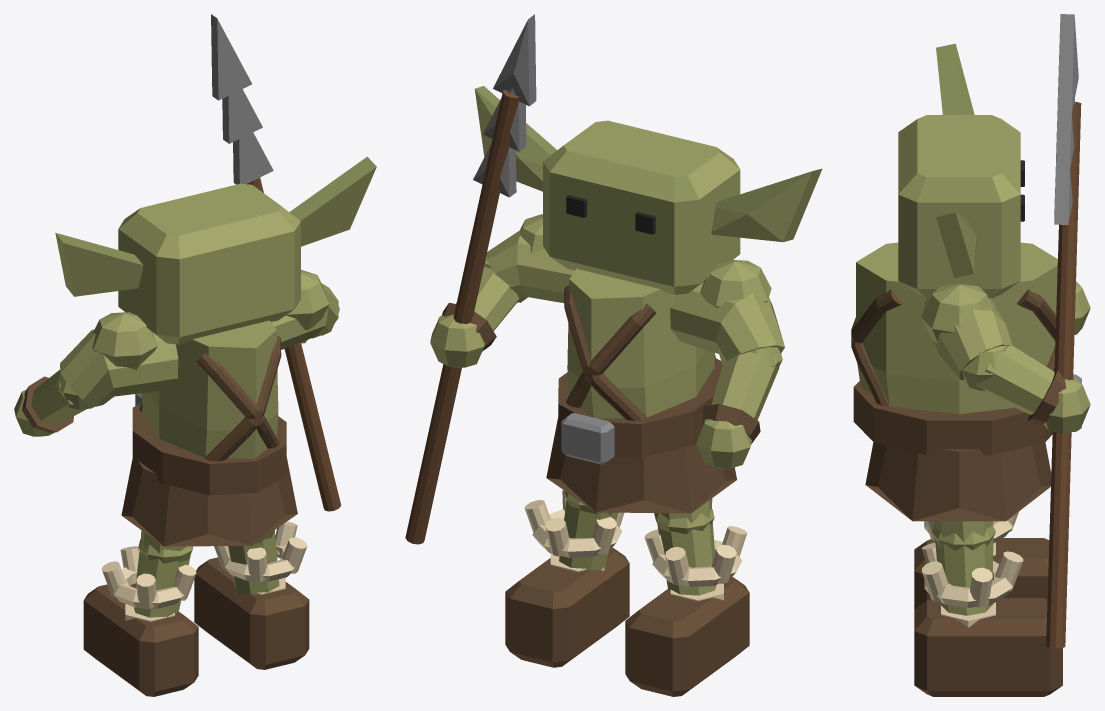
File: host_02.glb
The picture shows the model from 3 angles, left to right: view 1: azimuth 30°, elevation 25°; view 2: azimuth 150°, elevation 25°; view 3: azimuth 270°, elevation 25°; orthographic projection. The views are drawn at different scales.
Parts seen in each view (by area): view 1: Observed face, Tailored continuous bodice, Leather ragged skirt, Grounded boot L, Grounded boot R, Continuous leather waist belt, Upper arm L, V6 source pointed ear with broad anatomical root, V6 source pointed ear with broad anatomical root.001, V6 thornstrider source fitted narrow crossed leather torso s (×2), V6 source continuous held spear shaft, Connected shoulder L (+15 smaller); view 2: Observed face, Tailored continuous bodice, Grounded boot L, Grounded boot R, Leather ragged skirt, V6 source continuous held spear shaft, Upper arm L, Continuous leather waist belt, V6 source pointed ear with broad anatomical root, V6 thornstrider source fitted narrow crossed leather torso s (×2), Upper arm R, Forearm L (+20 smaller); view 3: Observed face, Tailored continuous bodice, Grounded boot R, Leather ragged skirt, V6 source continuous held spear shaft, Continuous leather waist belt, Forearm R, Grounded boot L, Upper arm R, V6 thornstrider source fitted narrow crossed leather torso s (×3), Connected shoulder R, Lower leg R (+16 smaller).
Boxes of the visible parts, x1,y1,x2,y2 form: Observed face: [118, 183, 300, 344]; Tailored continuous bodice: [141, 320, 278, 458]; Leather ragged skirt: [121, 457, 297, 546]; Grounded boot L: [83, 583, 198, 696]; Grounded boot R: [194, 557, 309, 669]; Continuous leather waist belt: [132, 403, 286, 495]; Upper arm L: [60, 329, 178, 406]; V6 source pointed ear with broad anatomical root: [55, 232, 143, 296]; V6 source pointed ear with broad anatomical root.001: [289, 156, 376, 246]; V6 thornstrider source fitted narrow crossed leather torso s (×2): [196, 336, 281, 461]; V6 source continuous held spear shaft: [246, 177, 341, 511]; Connected shoulder L: [92, 312, 157, 369]; Observed face: [543, 120, 740, 294]; Tailored continuous bodice: [567, 268, 714, 418]; Grounded boot L: [625, 577, 749, 696]; Grounded boot R: [505, 548, 629, 667]; Leather ragged skirt: [546, 417, 736, 513]; V6 source continuous held spear shaft: [405, 89, 519, 544]; Upper arm L: [670, 282, 784, 365]; Continuous leather waist belt: [558, 358, 722, 457]; V6 source pointed ear with broad anatomical root: [711, 168, 822, 241]; V6 thornstrider source fitted narrow crossed leather torso s (×2): [564, 285, 656, 420]; Upper arm R: [486, 229, 574, 302]; Forearm L: [711, 348, 779, 420]; Observed face: [898, 115, 1020, 298]; Tailored continuous bodice: [856, 242, 1057, 414]; Grounded boot R: [914, 598, 1062, 696]; Leather ragged skirt: [865, 442, 1051, 521]; V6 source continuous held spear shaft: [1046, 102, 1081, 648]; Continuous leather waist belt: [853, 381, 1052, 455]; Forearm R: [975, 345, 1054, 414]; Grounded boot L: [914, 538, 1049, 608]; Upper arm R: [924, 298, 1011, 380]; V6 thornstrider source fitted narrow crossed leather torso s (×3): [851, 289, 1056, 406]; Connected shoulder R: [921, 283, 994, 342]; Lower leg R: [935, 537, 993, 615].
Size of the model in its own units: 0.9408 by 1.64 by 0.5318.
